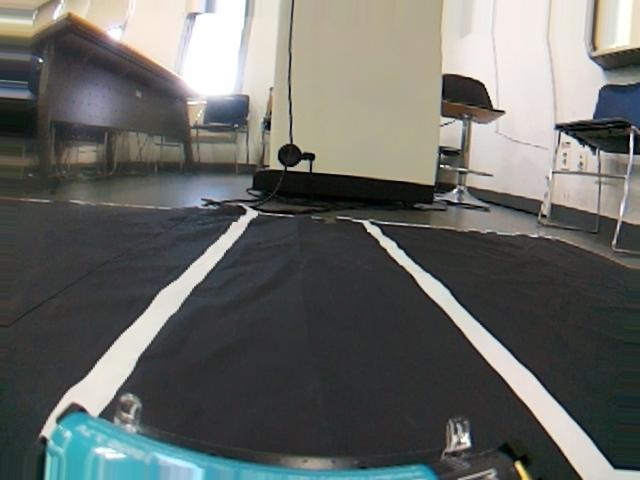straight: (15, 282, 640, 479)
